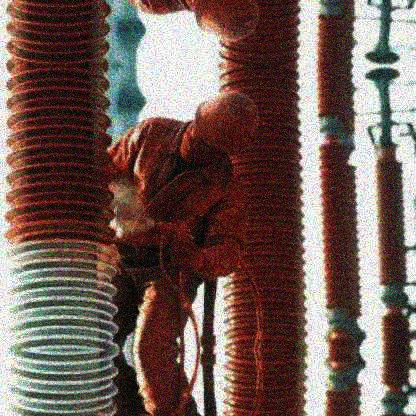helmet: (179, 91, 257, 166)
